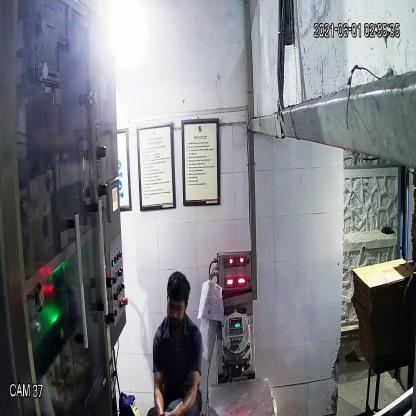no_goggles: (164, 298, 188, 316)
